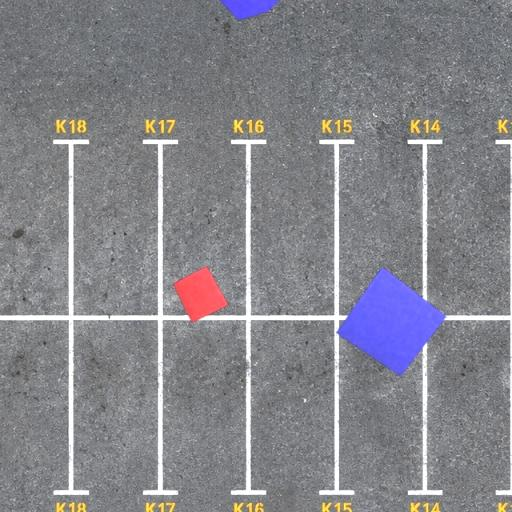BLUE_SQUARE: (335, 266, 447, 378)
RED_SQUARE: (172, 266, 230, 324)
